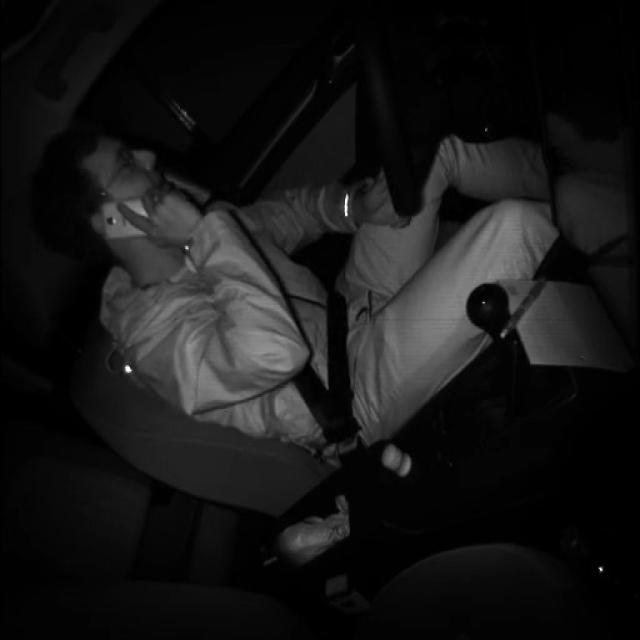pen: (500, 273, 550, 340)
